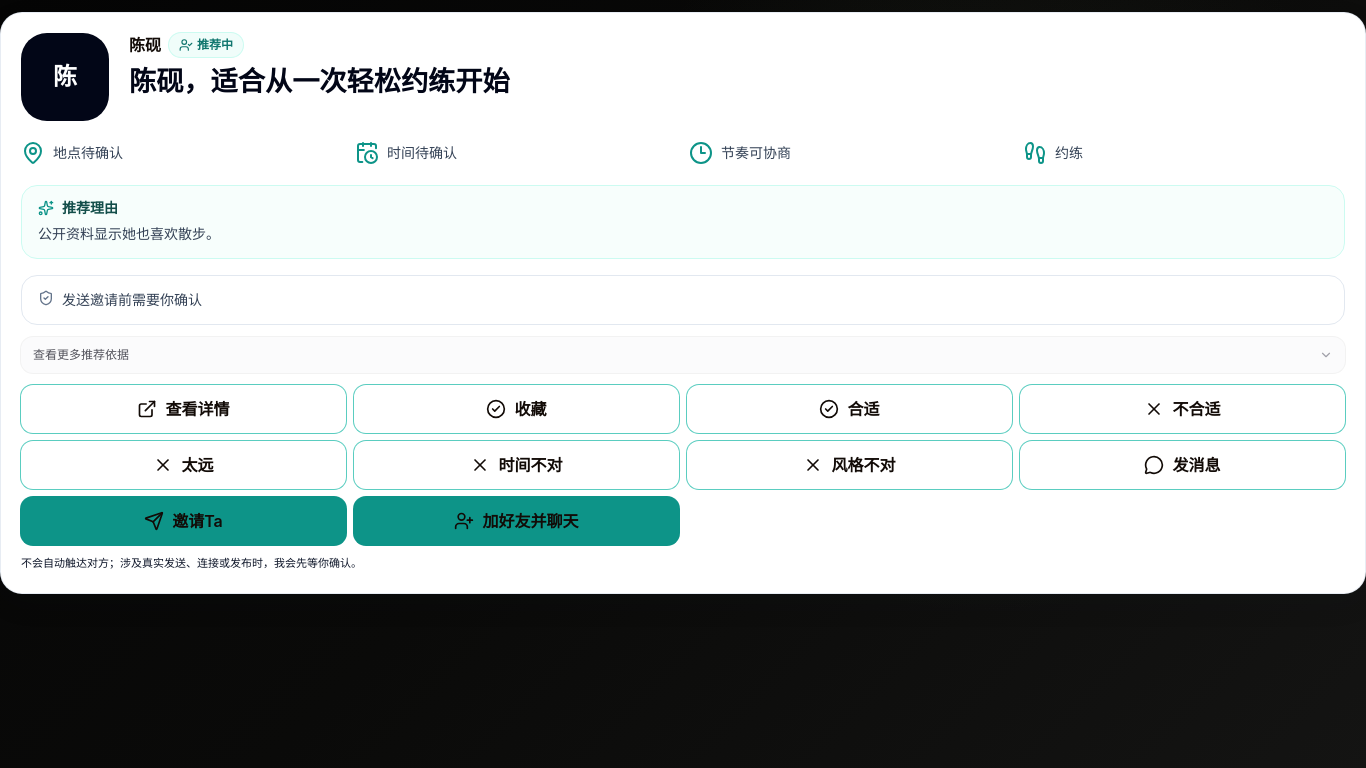
assistant-ui tool fallback rendering › keeps invite approvals as send confirmations even when replay text mentions the candidate
The image size is (1366, 768).
Click the button with aria-label "发送邀请" at (184, 521), box [21,497,346,545]
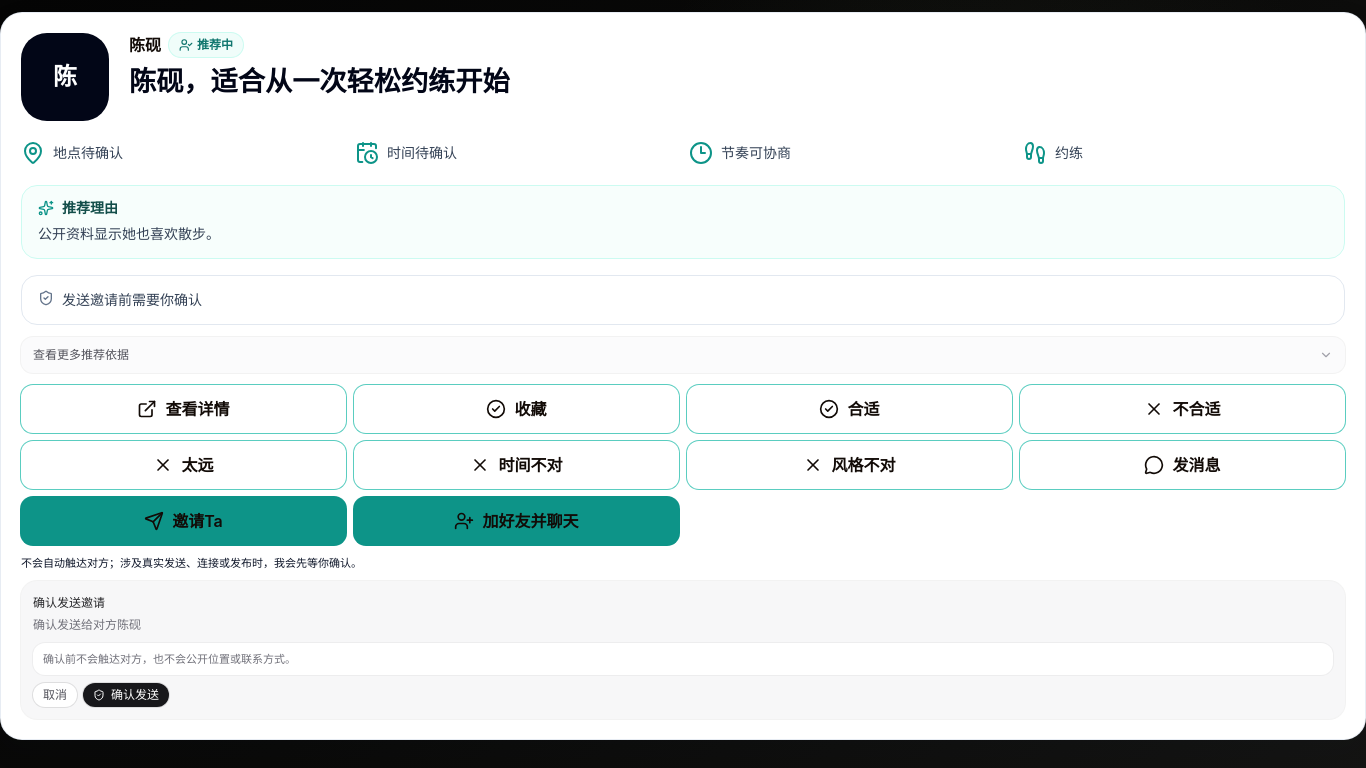
expect the element with test id "assistant-ui-inline-approval-panel" does not show "确认加好友": met, box [21,581,1345,719]
expect the element with test id "assistant-ui-inline-approval-panel" shows "确认发送邀请": met, box [33,595,105,610]
expect the element with test id "assistant-ui-inline-approval-panel" shows "确认发送": met, box [83,683,169,707]
